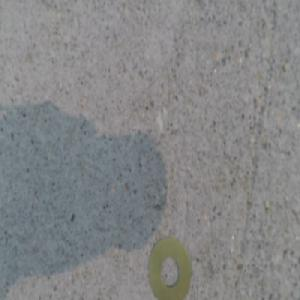Washer: (149, 238, 189, 299)
